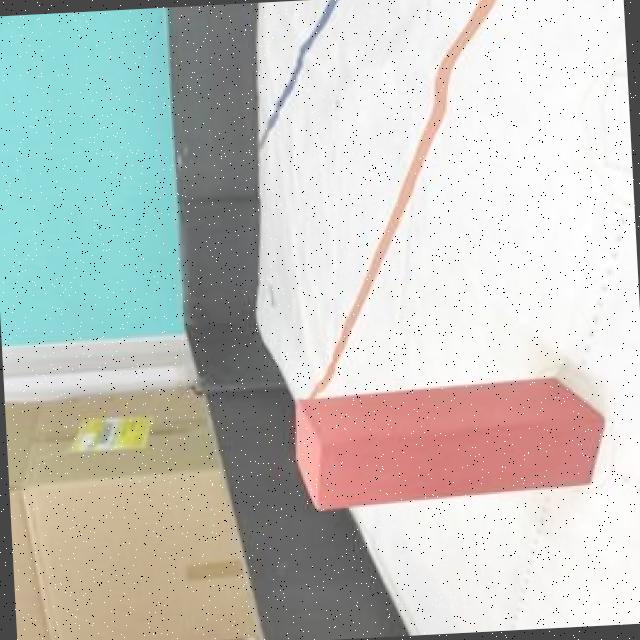redbox: (288, 373, 608, 510)
